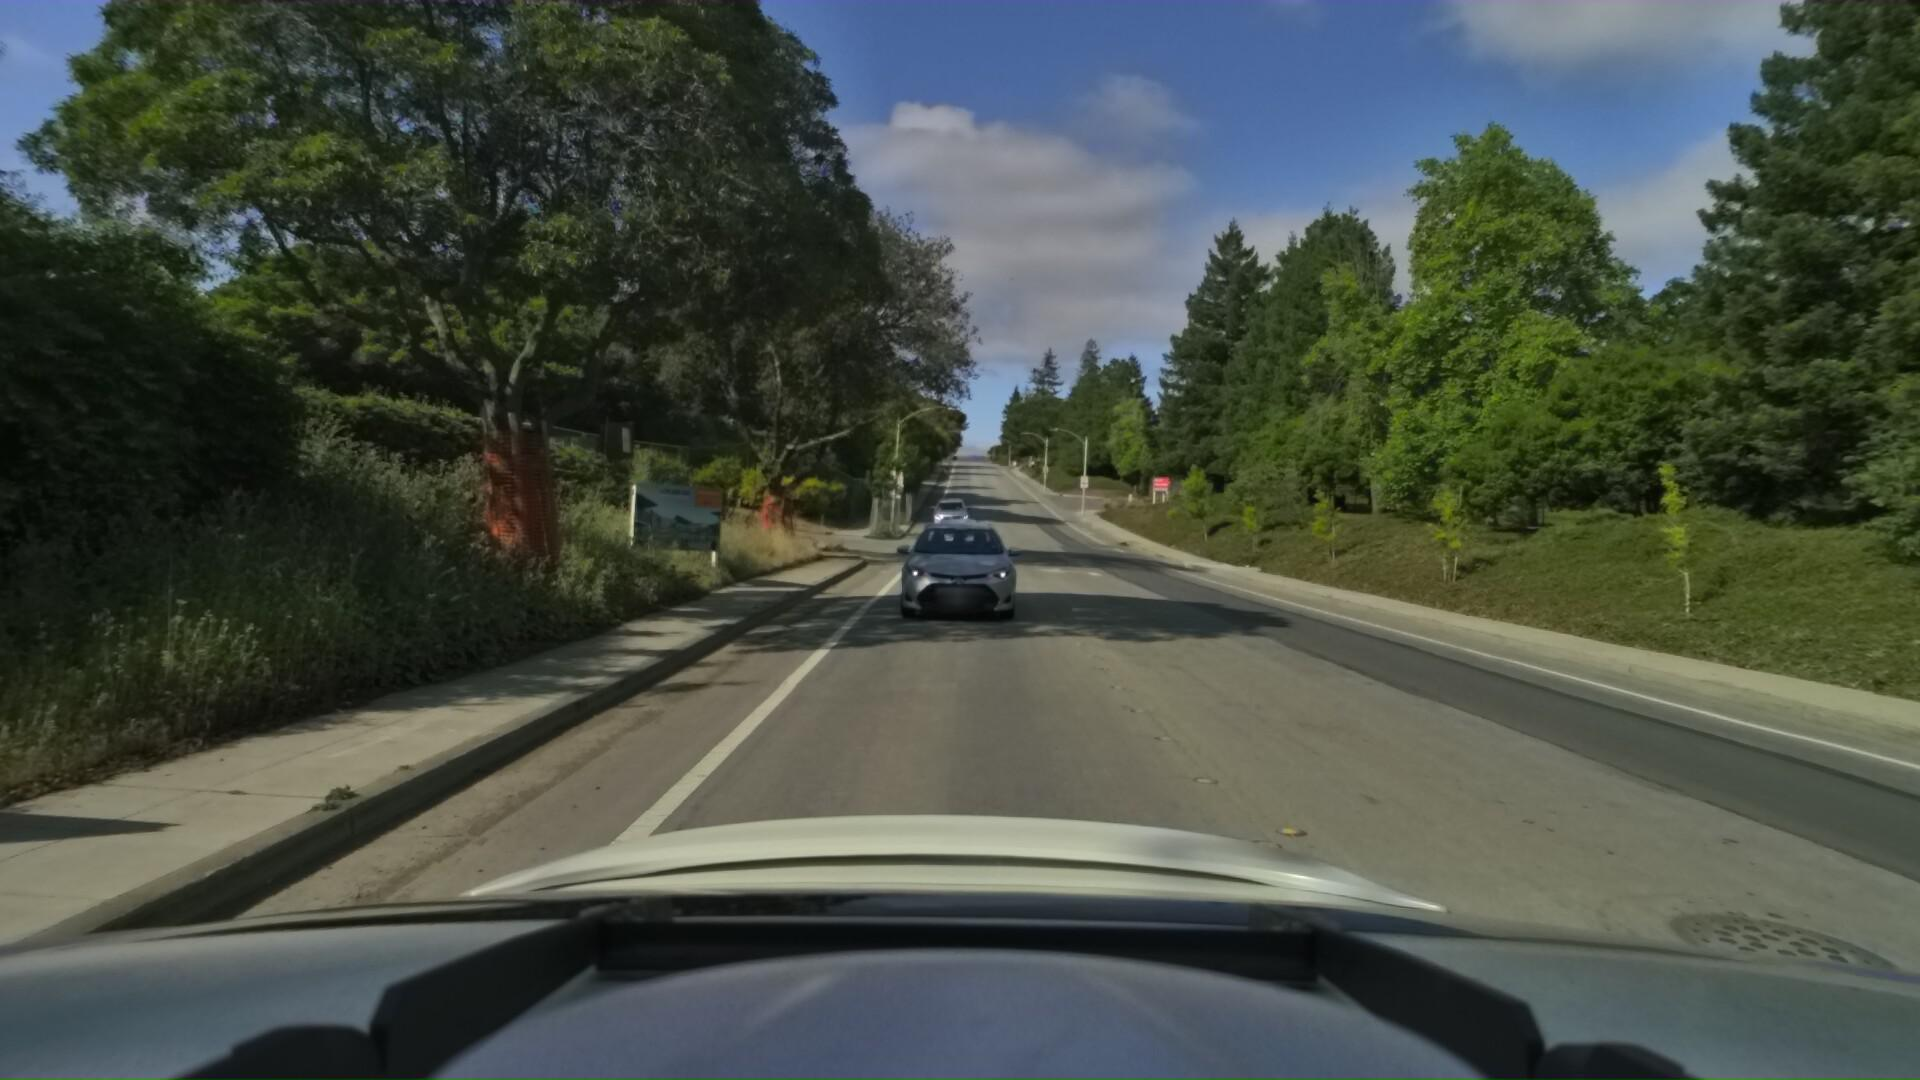car: (889, 508, 1021, 628), (923, 508, 986, 563), (926, 493, 967, 529)
